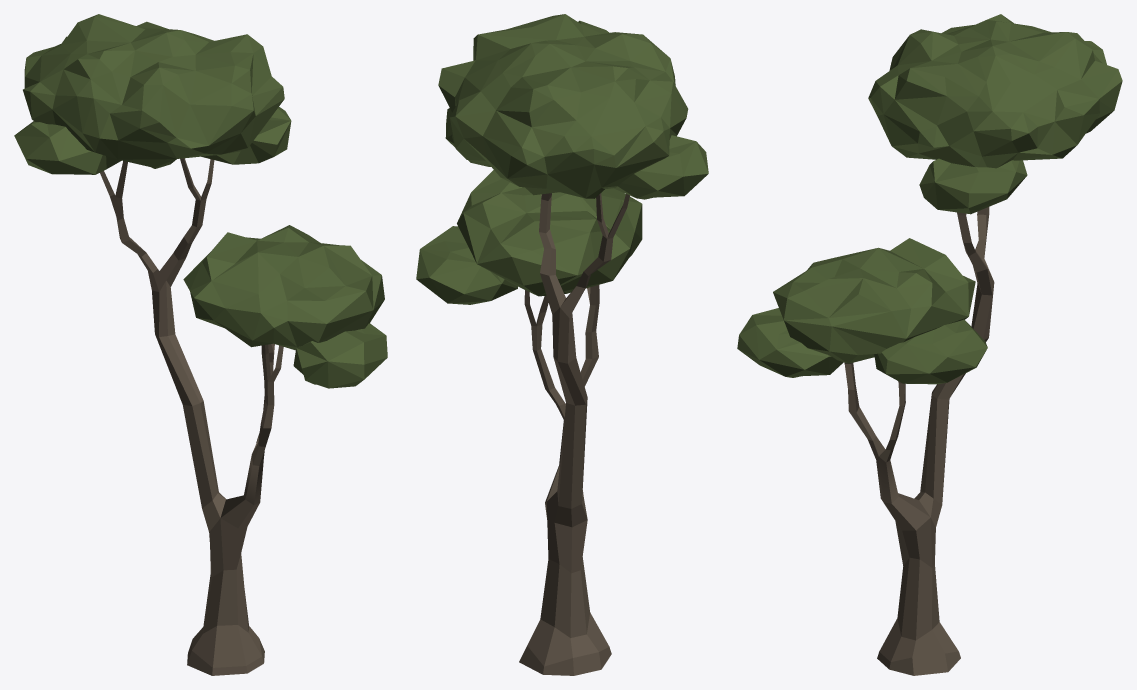
Rendered from Tree_090.fbx.
3 renders of one model, left to right at view 1: azimuth 30°, elevation 25°; view 2: azimuth 150°, elevation 25°; view 3: azimuth 270°, elevation 25°, orthographic. The views are drawn at different scales.
Visible parts, largest first — view 1: Tree_090; view 2: Tree_090; view 3: Tree_090.
Boxes of the visible parts, <box> form: Tree_090: <box>14,14,387,675</box>; Tree_090: <box>416,14,708,675</box>; Tree_090: <box>737,14,1122,675</box>.
Size of the model in its own units: 1.01 by 1.98 by 1.15.
1 material, 1 textured.
